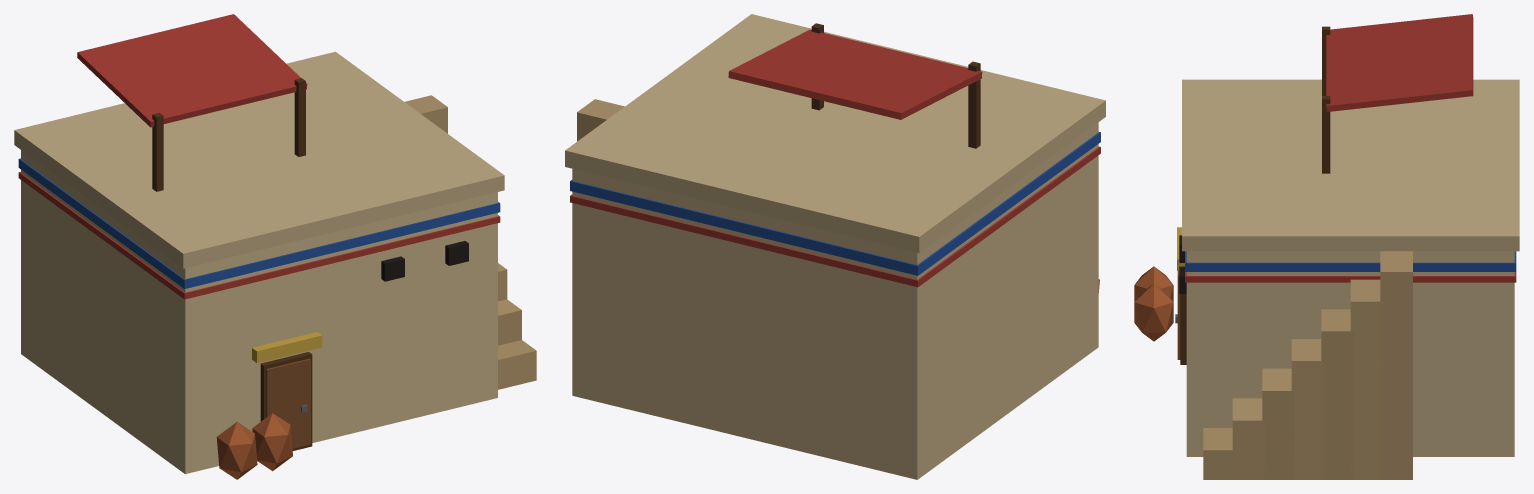
The model's file is gnoll_house_a.glb.
The picture shows the model from 3 angles, left to right: view 1: azimuth 30°, elevation 25°; view 2: azimuth 150°, elevation 25°; view 3: azimuth 270°, elevation 25°; orthographic projection. The views are drawn at different scales.
Parts seen in each view (by area): view 1: gnoll_house_a; view 2: gnoll_house_a; view 3: gnoll_house_a.
Part boxes in pixels (left/top/right/bottom): gnoll_house_a: left=14, top=14, right=536, bottom=479; gnoll_house_a: left=565, top=14, right=1105, bottom=479; gnoll_house_a: left=1134, top=14, right=1519, bottom=479.
Size of the model in its own units: 2.56 by 2.09 by 2.35.
